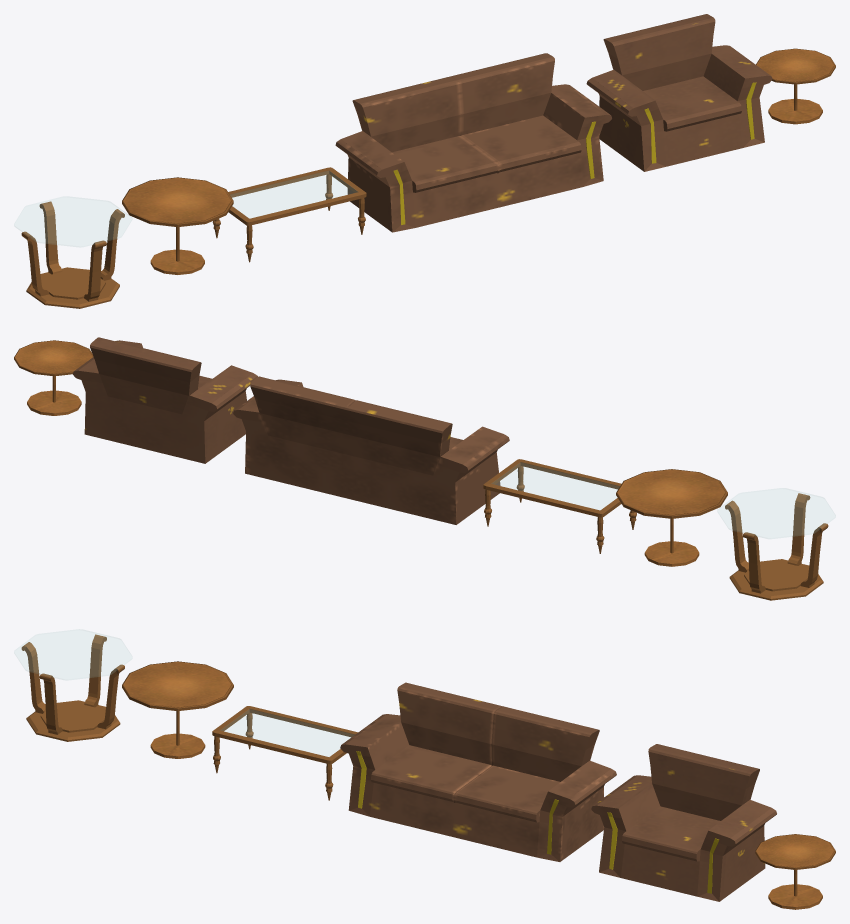
Rendered from Furniture Pack.fbx.
3 views of the same model, one above another, from view 1: azimuth 30°, elevation 25°; view 2: azimuth 150°, elevation 25°; view 3: azimuth 330°, elevation 25° (orthographic).
Parts seen in each view (by area): view 1: Sofa Double, Cube.002, Cylinder, Round Table, Table 2, Round Table Small; view 2: Sofa Double, Cube.002, Cylinder, Round Table, Table 2, Round Table Small; view 3: Sofa Double, Cube.002, Cylinder, Round Table, Table 2, Round Table Small.
Boxes of the visible parts, x1,y1,x2,y2 form: Sofa Double: (335,53,611,232); Cube.002: (586,14,772,171); Cylinder: (14,197,131,308); Round Table: (122,177,233,274); Table 2: (212,167,366,262); Round Table Small: (756,48,835,124); Sofa Double: (233,376,509,524); Cube.002: (73,337,257,463); Cylinder: (718,488,835,600); Round Table: (616,469,727,566); Table 2: (483,459,636,553); Round Table Small: (14,340,93,415); Sofa Double: (340,682,616,861); Cube.002: (591,744,776,901); Cylinder: (14,629,131,741); Round Table: (122,661,233,758); Table 2: (212,706,357,800); Round Table Small: (755,834,835,909).
Size of the model in its own units: 13.14 by 1.5 by 1.58.
